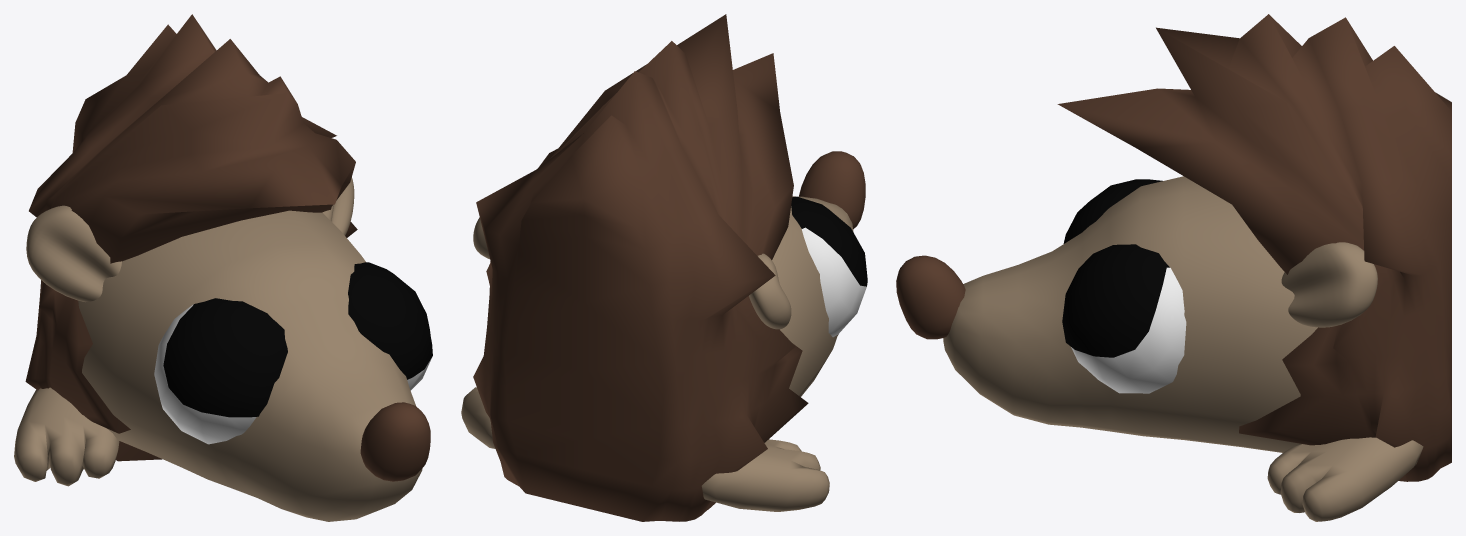
File: Hedgehog.fbx
3 renders of one model, left to right at view 1: azimuth 30°, elevation 25°; view 2: azimuth 150°, elevation 25°; view 3: azimuth 270°, elevation 25°, orthographic. The views are drawn at different scales.
Visible parts, largest first — view 1: Hedgehog, HedhehogHair, HedhehogEyes, HedhehogFeet, HedhehogEars, HedhehogNose; view 2: HedhehogHair, HedhehogFeet, Hedgehog, HedhehogEyes, HedhehogNose, HedhehogEars; view 3: HedhehogHair, Hedgehog, HedhehogEyes, HedhehogFeet, HedhehogEars, HedhehogNose.
Boxes of the visible parts, x1,y1,x2,y2 form: Hedgehog: (78,210,422,521); HedhehogHair: (25,14,357,461); HedhehogEyes: (154,262,432,444); HedhehogFeet: (14,387,119,486); HedhehogEars: (26,177,354,302); HedhehogNose: (360,402,430,481); HedhehogHair: (473,14,808,521); HedhehogFeet: (461,387,829,511); Hedgehog: (772,196,853,396); HedhehogEyes: (791,196,867,337); HedhehogNose: (799,151,865,229); HedhehogEars: (473,217,791,329); HedhehogHair: (1057,14,1451,481); Hedgehog: (943,176,1317,452); HedhehogEyes: (1062,179,1186,393); HedhehogFeet: (1267,437,1423,521); HedhehogEars: (1281,242,1377,327); HedhehogNose: (896,255,965,339).
Bounding box in the file's own units: 114 × 124 × 146.
